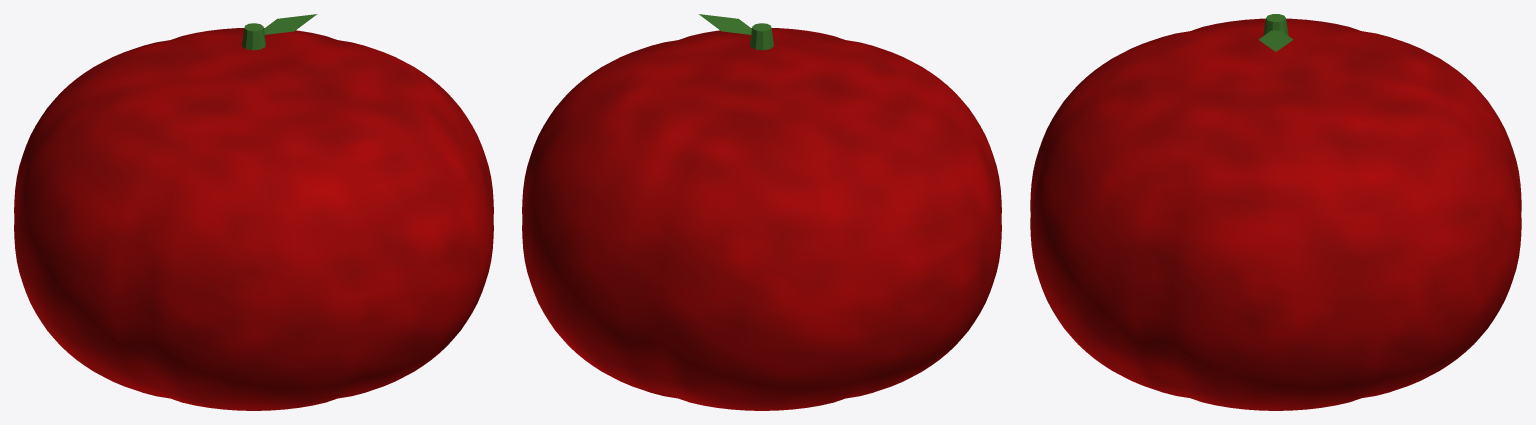
Rendered from tomate.glb.
3 views of the same model, side by side, from view 1: azimuth 30°, elevation 25°; view 2: azimuth 150°, elevation 25°; view 3: azimuth 270°, elevation 25° (orthographic). The views are drawn at different scales.
Parts seen in each view (by area): view 1: entier_peau, moitie_B_peau, moitie_A_peau, entier_extra0; view 2: entier_peau, moitie_A_peau, moitie_B_peau, entier_extra0; view 3: entier_peau, moitie_A_peau, moitie_B_peau, entier_extra0.
Boxes of the visible parts, <box> form: entier_peau: <box>14,28,493,410</box>; moitie_B_peau: <box>40,60,487,410</box>; moitie_A_peau: <box>14,28,411,353</box>; entier_extra0: <box>242,14,316,50</box>; entier_peau: <box>522,28,1001,410</box>; moitie_A_peau: <box>522,60,974,410</box>; moitie_B_peau: <box>600,40,1001,349</box>; entier_extra0: <box>699,14,773,50</box>; entier_peau: <box>1030,18,1521,410</box>; moitie_A_peau: <box>1276,19,1520,410</box>; moitie_B_peau: <box>1032,30,1275,410</box>; entier_extra0: <box>1258,14,1293,51</box>.
Bounding box in the file's own units: 2 × 1.47 × 1.95.
